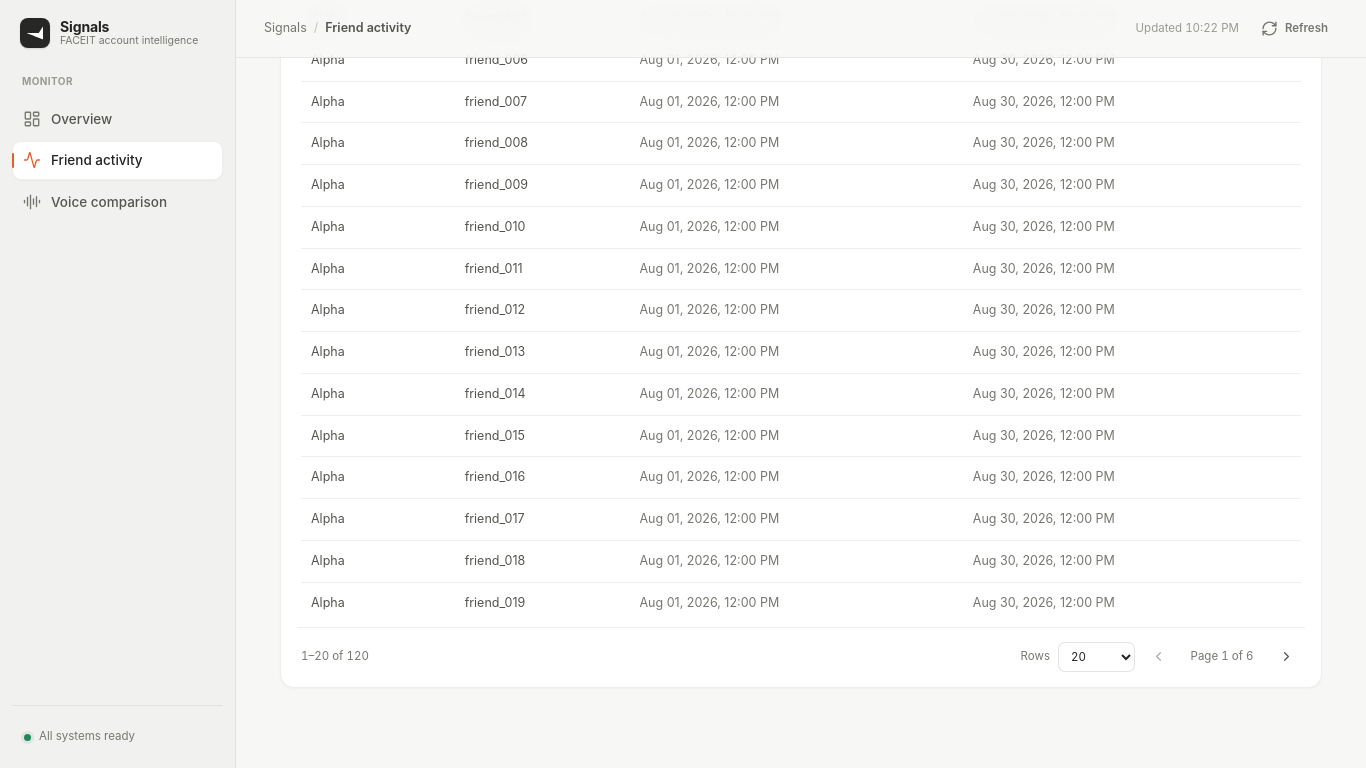
Test: known connections pagination › shows 20 connections at a time and moves between pages
(page scrolled)
Expected: the text "friend_019" is shown, [455,582,630,623]
Expected: the text "1–20 of 120" is shown, [301,648,369,666]
Click the button named "Next page" at x=1286, y=657, box [1271,642,1301,672]
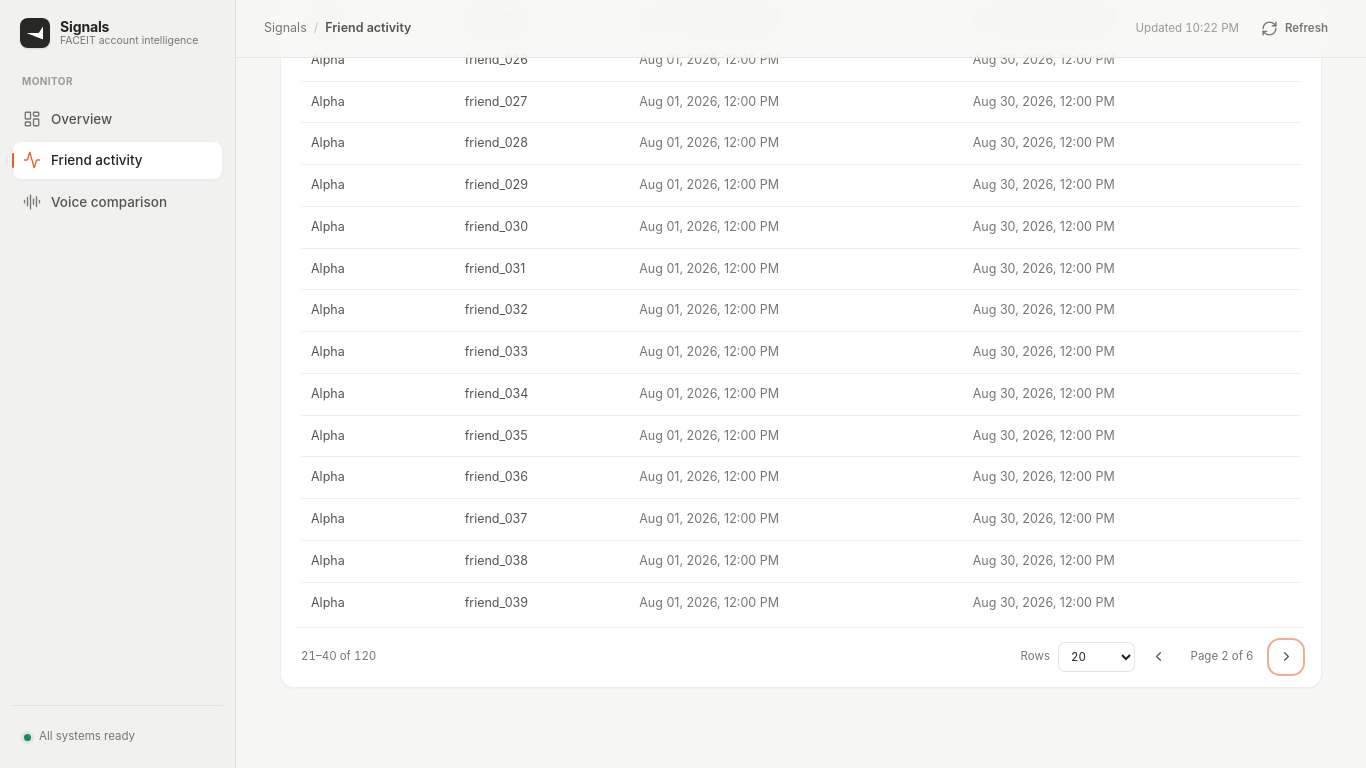
Expected: the text "21–40 of 120" is shown, [301,648,376,666]
